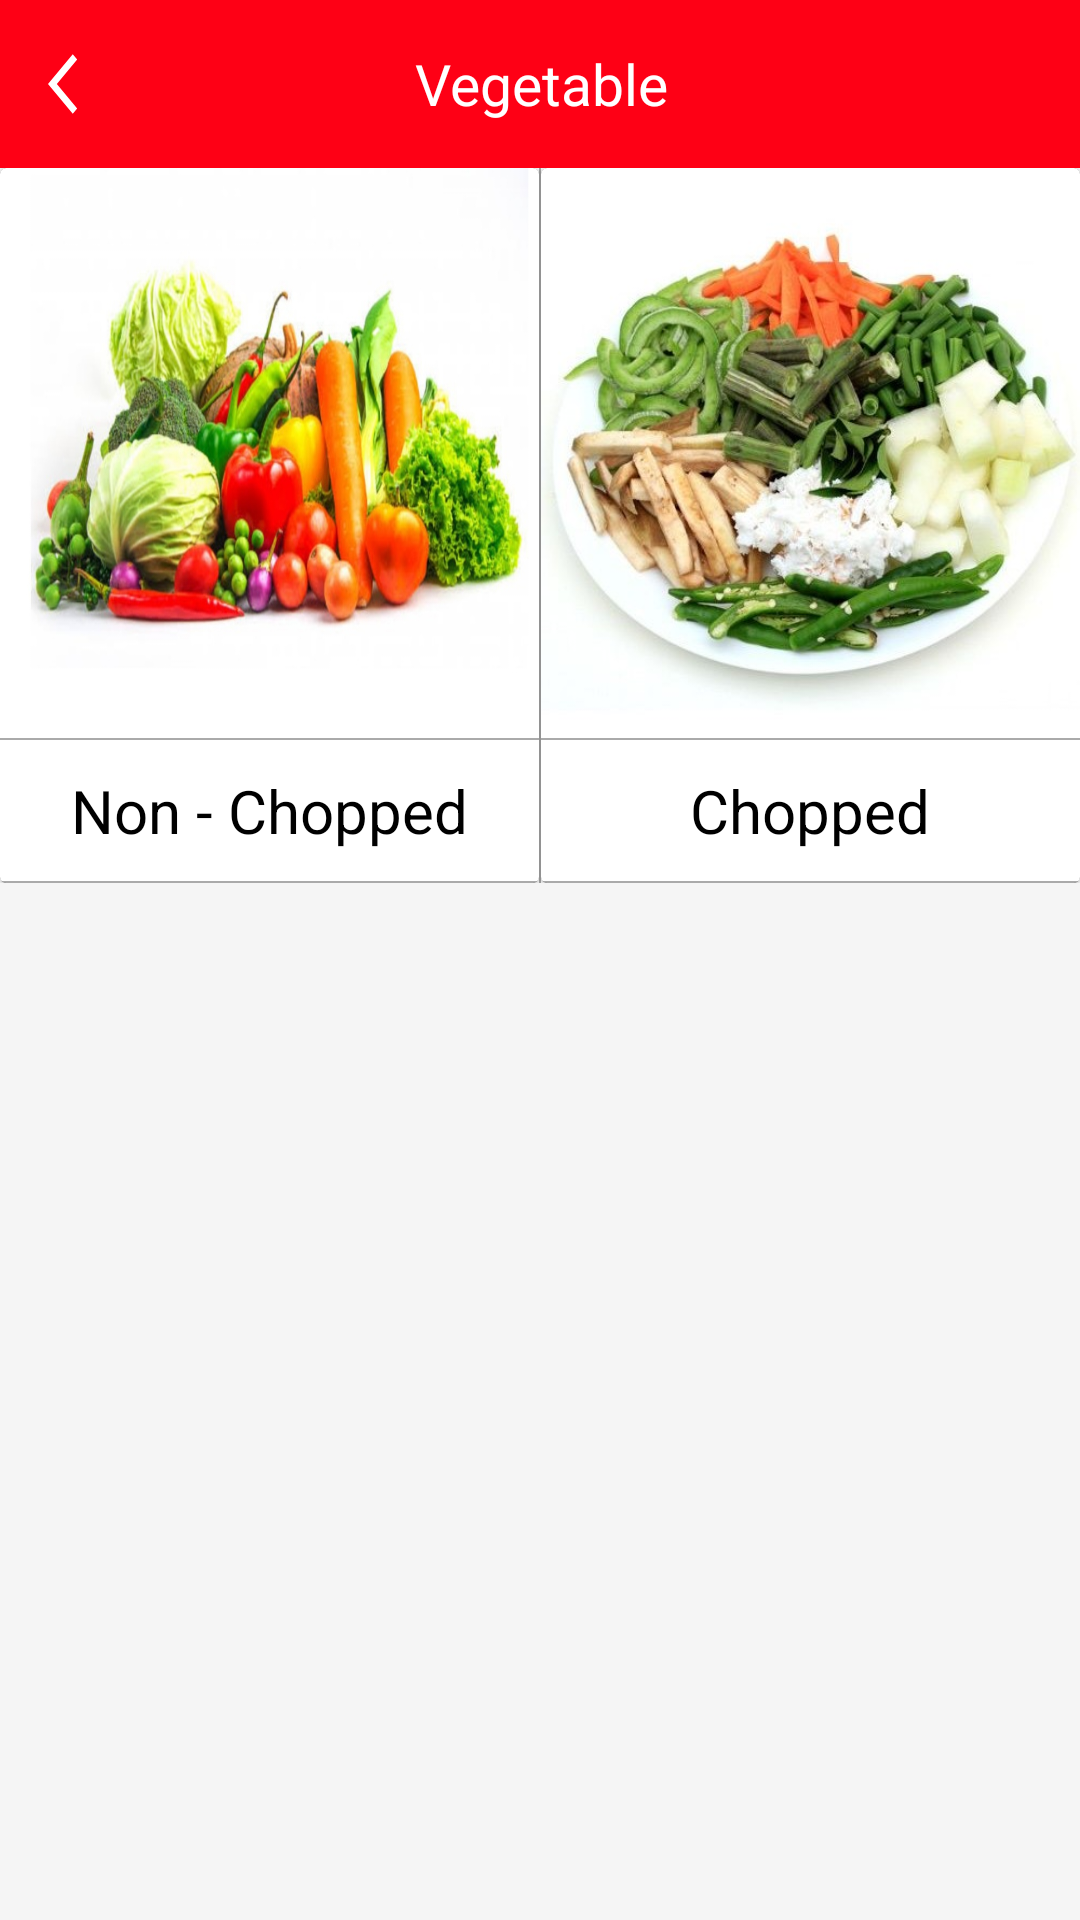

Screen size 1080w x 1920h. Icon name, then its center in pixels as [x,y]:
arrow back: [62,84]
